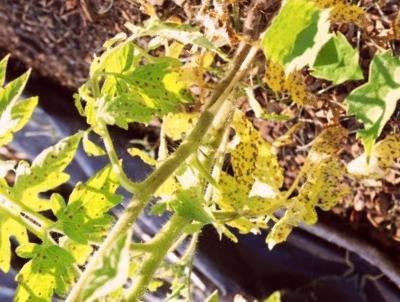Tomato Septoria leaf spot: (250, 102, 383, 260), (72, 22, 211, 156), (192, 102, 311, 223), (0, 109, 92, 221), (41, 153, 135, 252)
